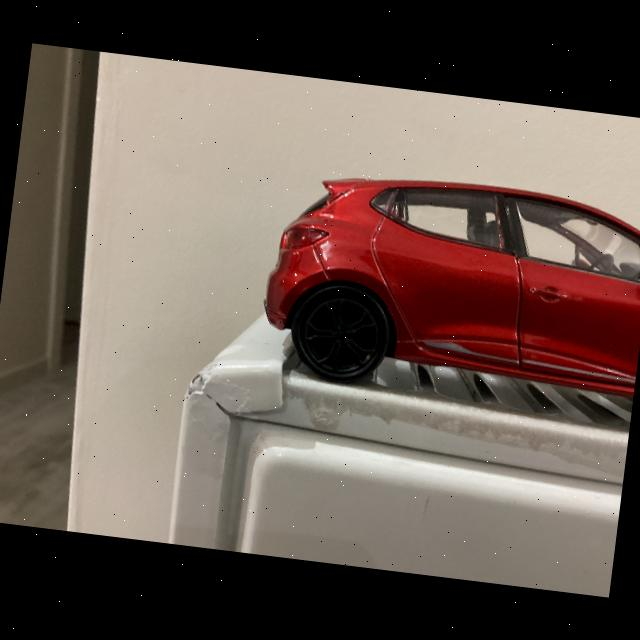Dogru_Jant: (300, 292, 383, 375)
